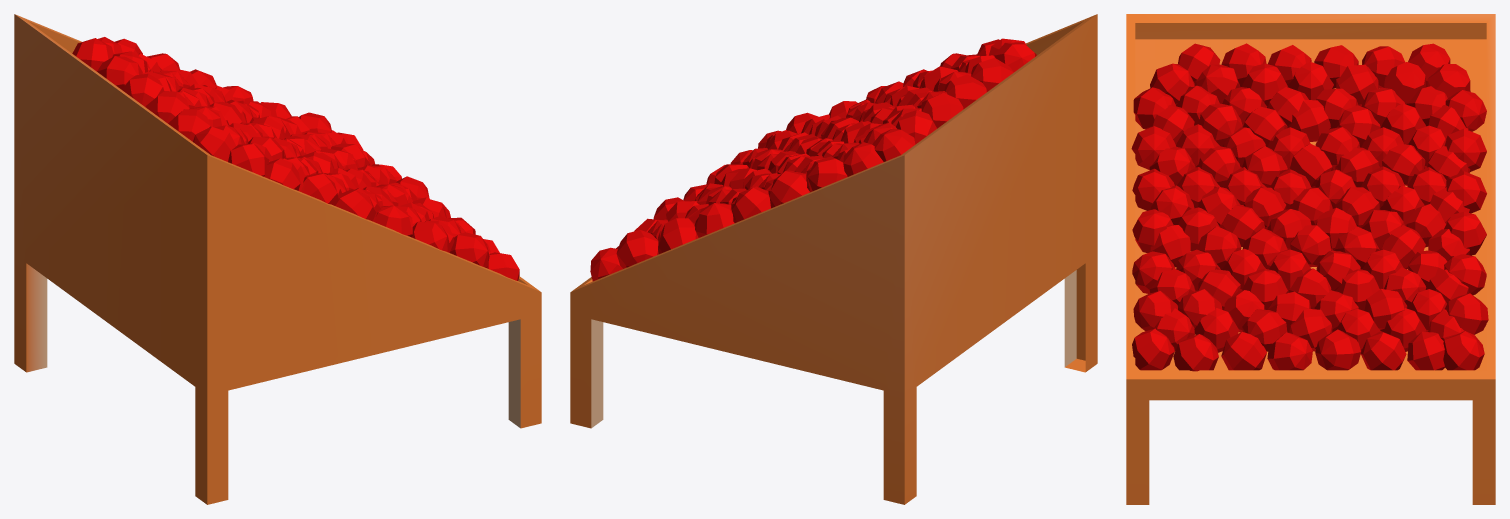
The model's file is FruitStand.fbx.
3 renders of one model, left to right at view 1: azimuth 30°, elevation 25°; view 2: azimuth 150°, elevation 25°; view 3: azimuth 270°, elevation 25°, orthographic. The views are drawn at different scales.
Parts seen in each view (by area): view 1: FruitStand; view 2: FruitStand; view 3: FruitStand.
Part boxes in pixels (x1,y1,x2,y2): FruitStand: (14,14,541,504); FruitStand: (570,14,1097,504); FruitStand: (1126,14,1495,504).
Size of what is drawn, in the model's own units: 160 by 160 by 160.
